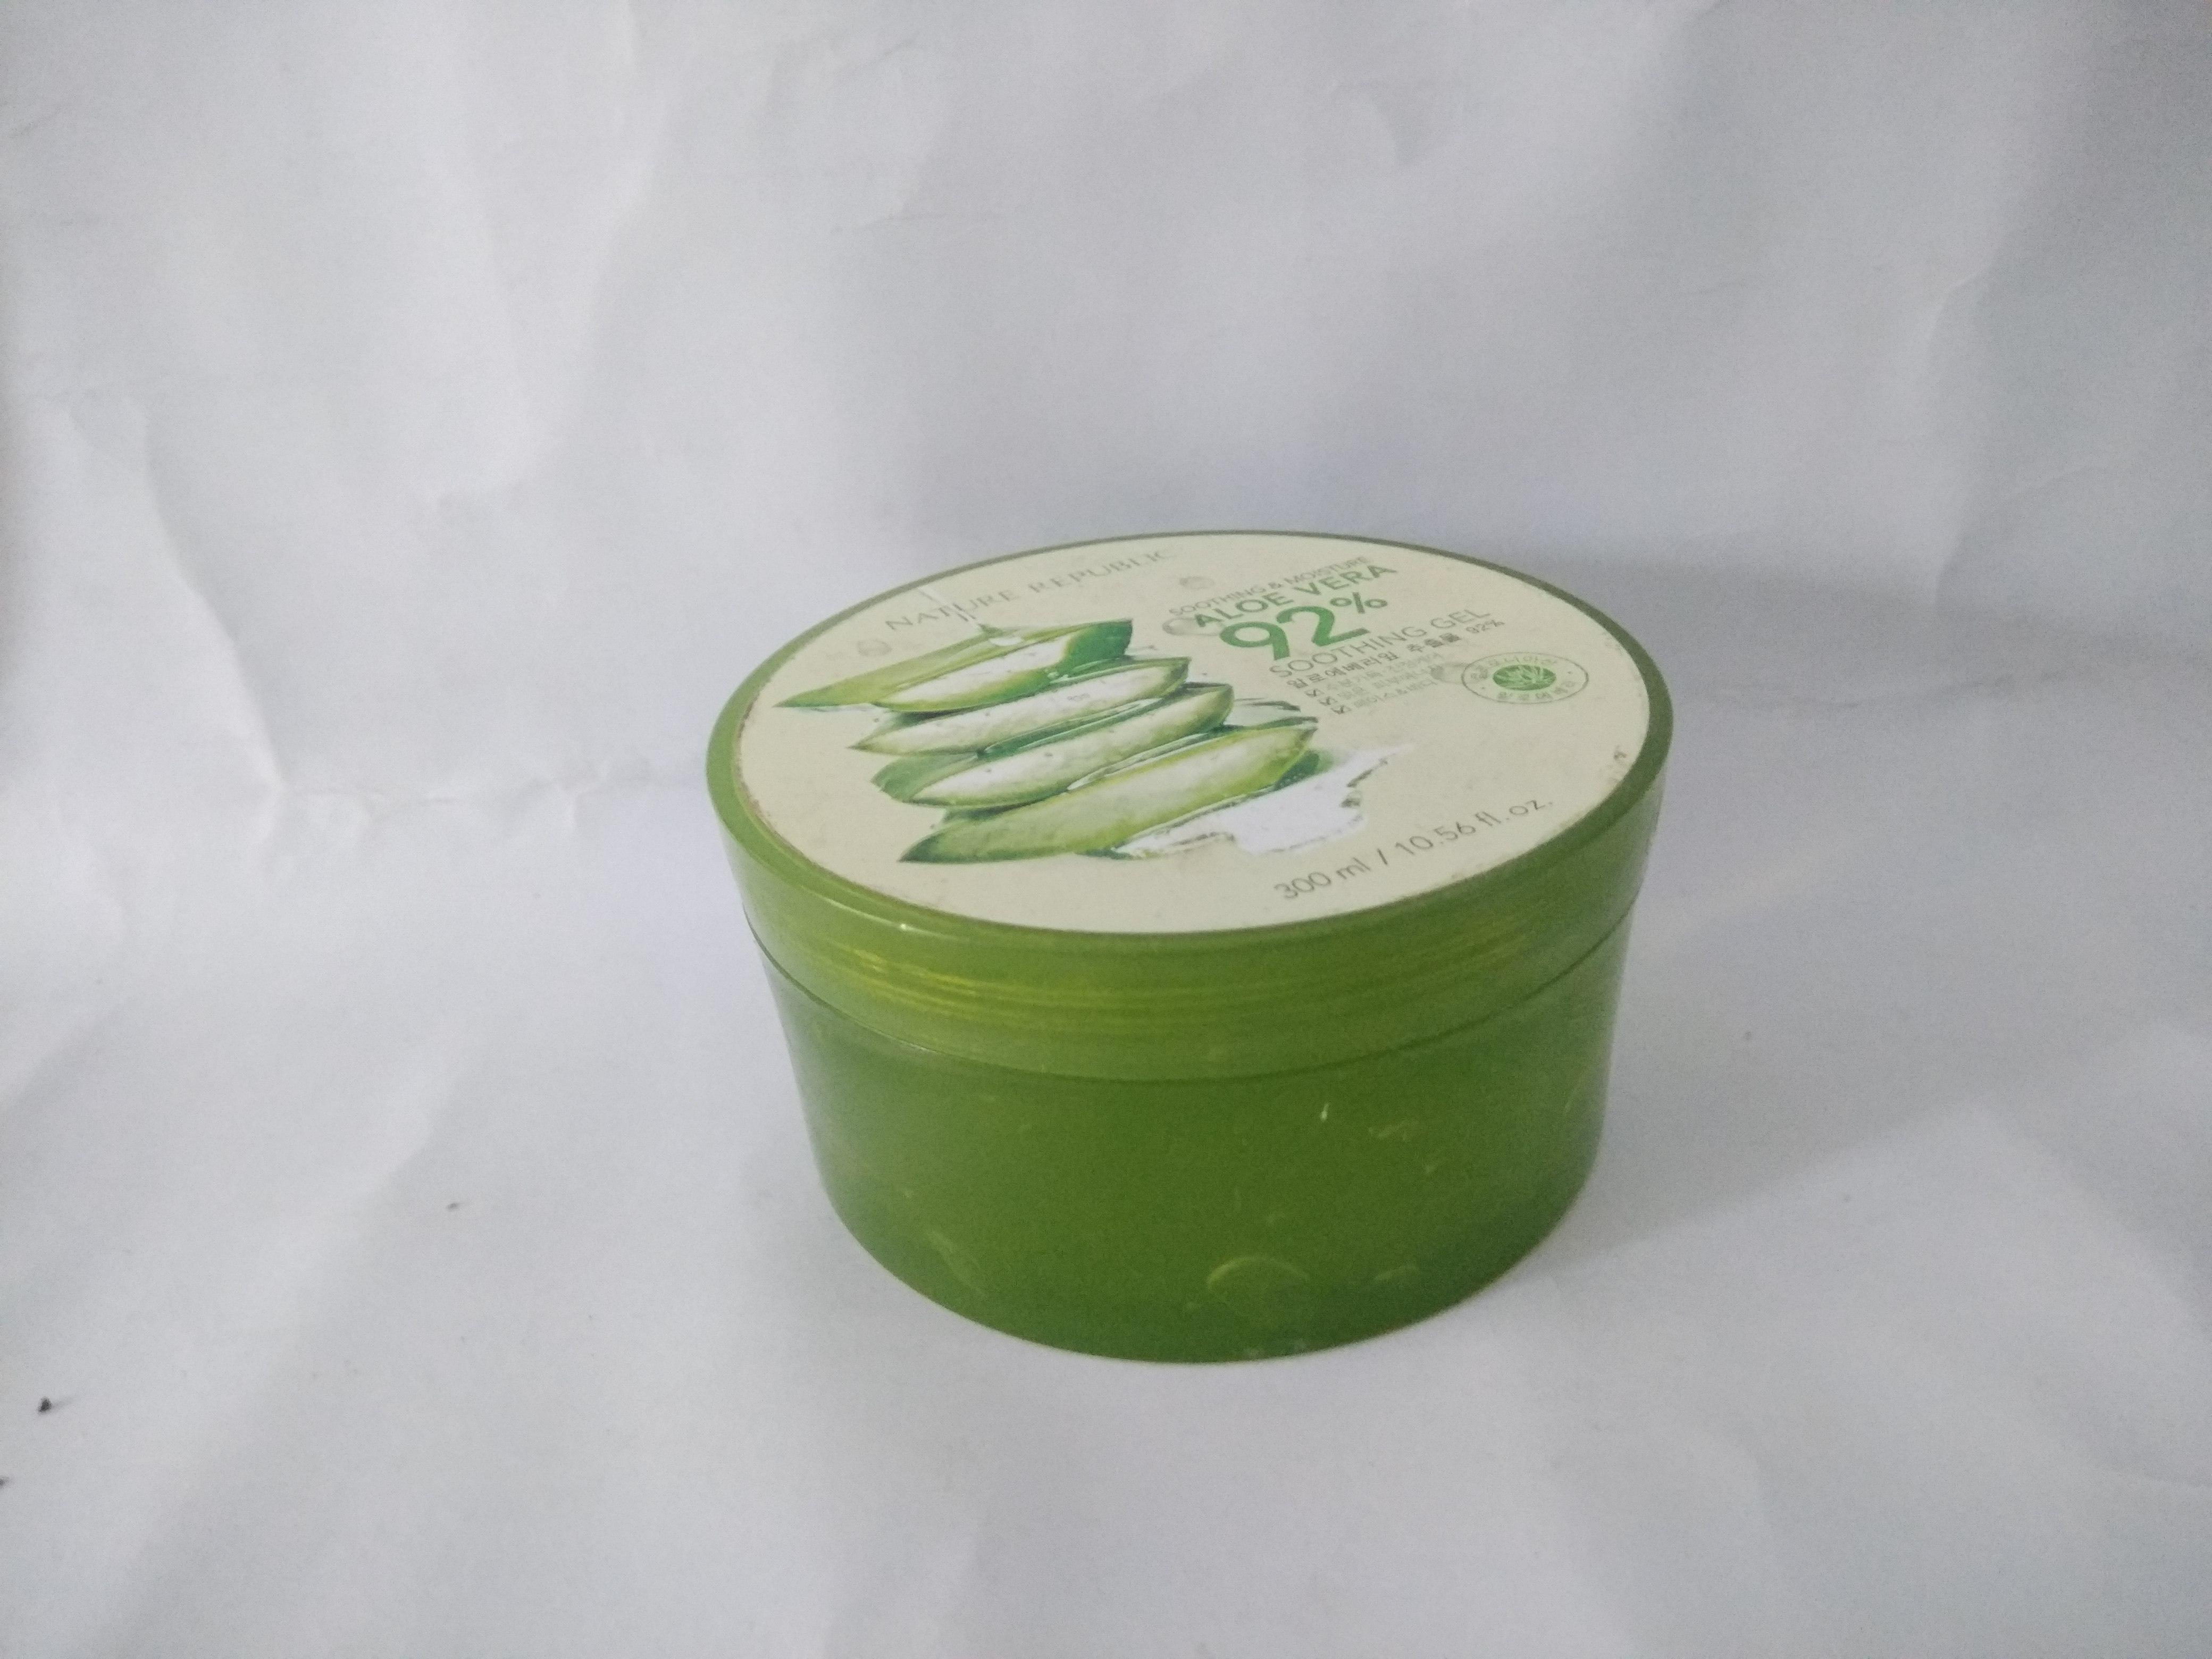HDPE: (556, 432, 1777, 1488)
